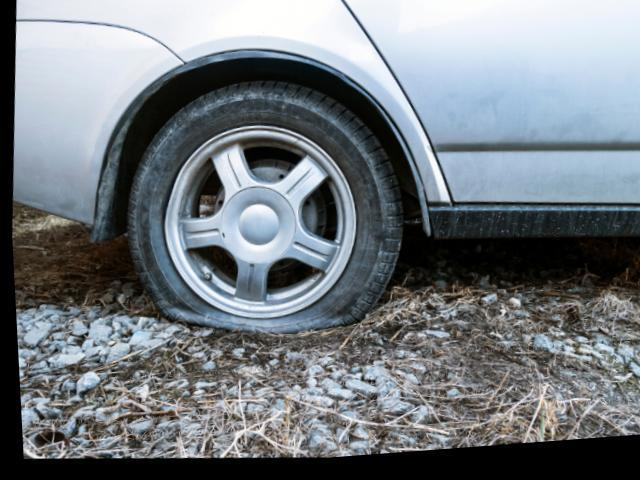tire flat: (123, 83, 399, 340)
